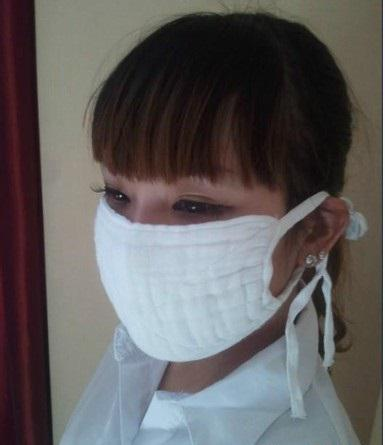OK: (88, 163, 294, 369)
